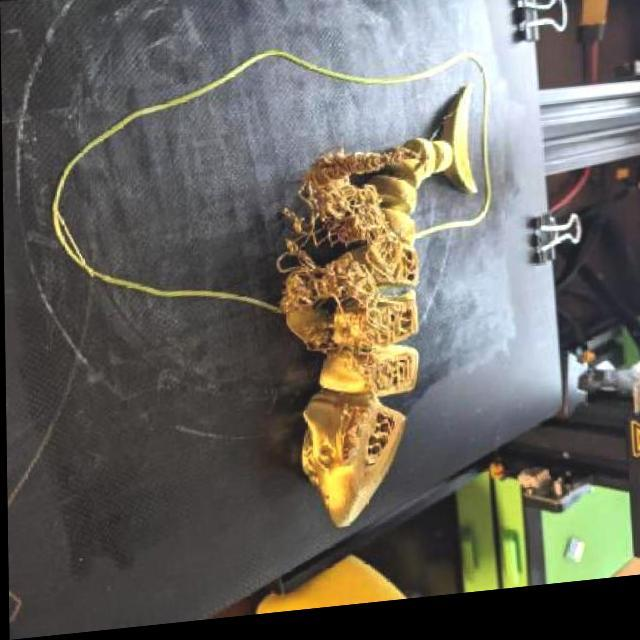spaghetti: (275, 147, 406, 410)
